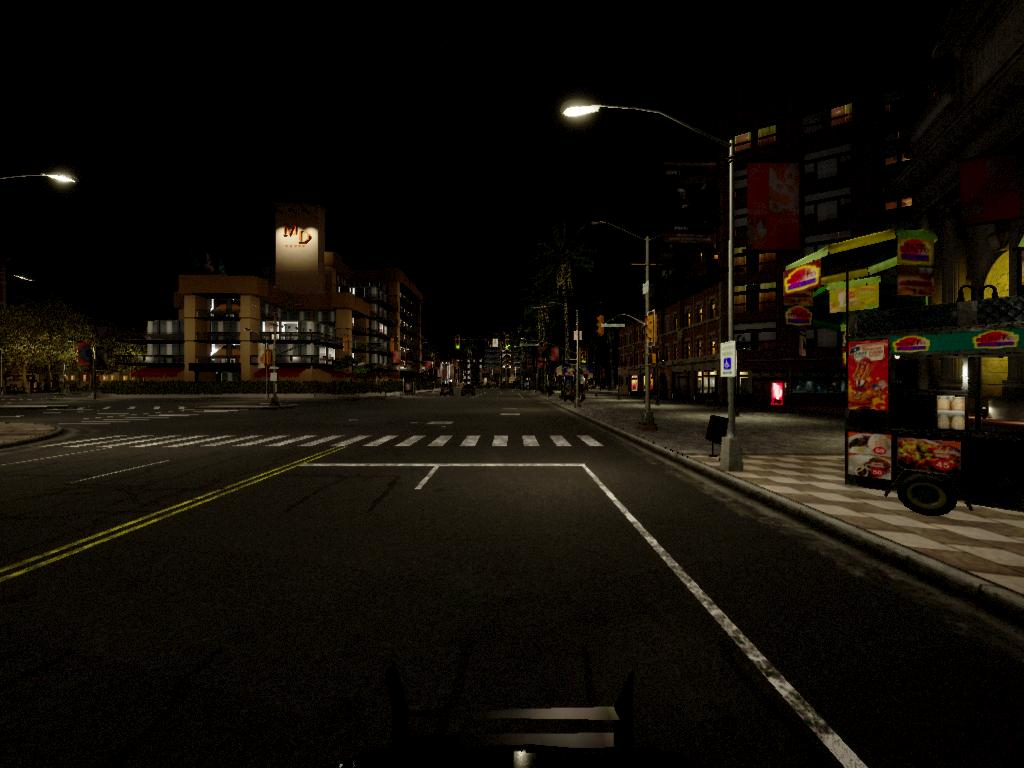traffic_light: (646, 316, 658, 348), (454, 335, 463, 352), (580, 349, 588, 367), (505, 335, 510, 351)
